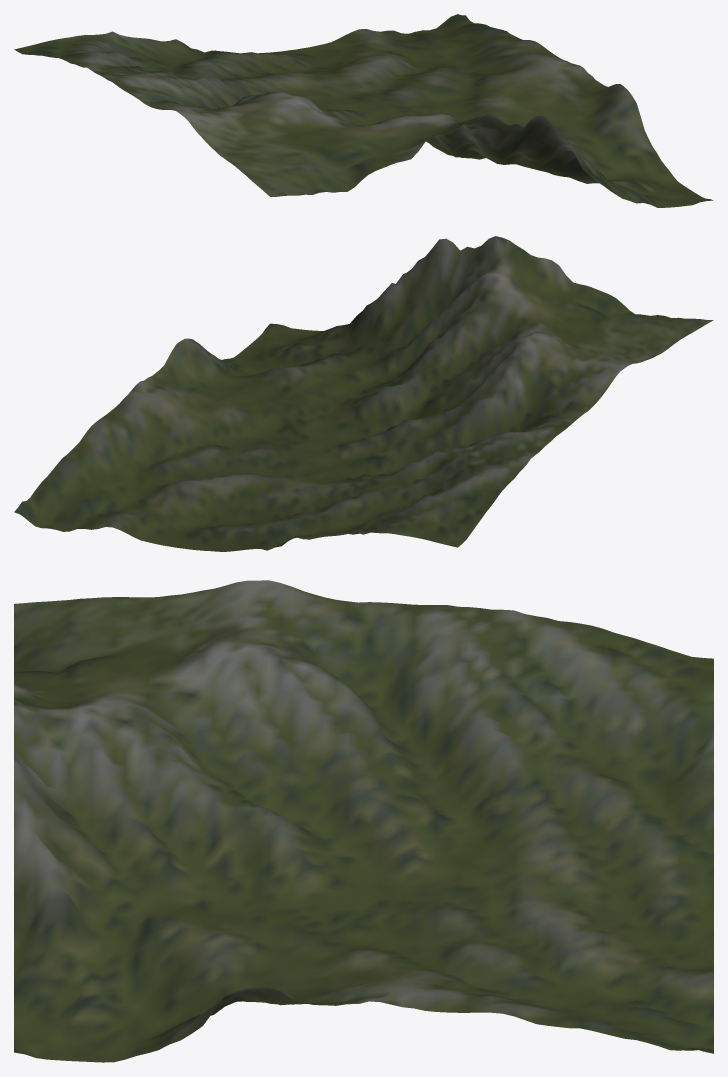
Rendered from TownLandscape_Mesh_x0125_3_1.fbx.
3 views of the same model, one above another, from view 1: azimuth 30°, elevation 25°; view 2: azimuth 150°, elevation 25°; view 3: azimuth 270°, elevation 25° (orthographic). The views are drawn at different scales.
Visible parts, largest first — view 1: Terrain; view 2: Terrain; view 3: Terrain.
Boxes of the visible parts, x1,y1,x2,y2 form: Terrain: (14,14,713,207); Terrain: (14,236,713,551); Terrain: (14,580,713,1062).
Size of the model in its own units: 1024 by 337 by 1024.
